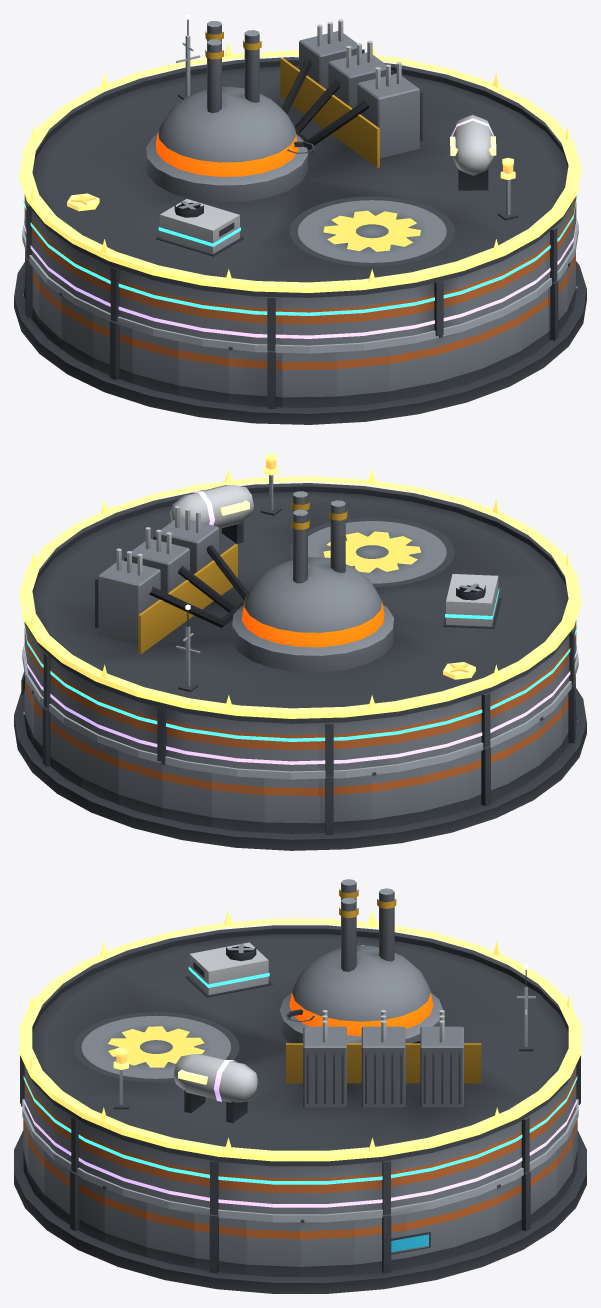
File: titanium_smelter_s.glb
The picture shows the model from 3 angles, top to bottom: view 1: azimuth 30°, elevation 25°; view 2: azimuth 150°, elevation 25°; view 3: azimuth 270°, elevation 25°; orthographic projection.
Visible parts, largest first — view 1: Roof, Base, L3, Wall_21, Wall_20, Wall_22, Wall_19, L4, Wall_23, Wall_18, Wall_24, Upper_20 (+36 smaller); view 2: Roof, Base, Wall_10, Wall_11, Wall_09, L4, Wall_12, L3, Wall_08, Wall_13, Wall_07, Upper_11 (+36 smaller); view 3: Roof, Base, L4, L3, Wall_00, Wall_31, Wall_30, Wall_01, Wall_29, Wall_28, Wall_03, Upper_00 (+34 smaller).
Boxes of the visible parts, x1,y1,x2,y2 form: Roof: [29, 19, 574, 297]; Base: [14, 261, 586, 424]; L3: [155, 141, 314, 256]; Wall_21: [282, 352, 336, 407]; Wall_20: [228, 346, 282, 408]; Wall_22: [336, 347, 389, 406]; Wall_19: [178, 341, 228, 403]; L4: [450, 114, 496, 190]; Wall_23: [389, 338, 438, 401]; Wall_18: [132, 329, 178, 395]; Wall_24: [438, 324, 482, 391]; Upper_20: [229, 293, 282, 350]; Roof: [26, 483, 571, 723]; Base: [14, 688, 586, 850]; Wall_10: [264, 778, 318, 833]; Wall_11: [318, 775, 371, 834]; Wall_09: [211, 773, 264, 832]; L4: [170, 485, 253, 543]; Wall_12: [372, 767, 422, 829]; L3: [442, 574, 501, 628]; Wall_08: [161, 762, 211, 827]; Wall_13: [422, 755, 468, 821]; Wall_07: [118, 750, 162, 817]; Upper_11: [318, 719, 371, 776]; Roof: [31, 879, 569, 1166]; Base: [14, 1130, 586, 1293]; L4: [173, 1054, 258, 1123]; L3: [185, 942, 314, 1022]; Wall_00: [300, 1219, 354, 1277]; Wall_31: [246, 1220, 300, 1276]; Wall_30: [194, 1213, 246, 1274]; Wall_01: [354, 1213, 406, 1274]; Wall_29: [146, 1203, 194, 1267]; Wall_28: [103, 1185, 146, 1257]; Wall_03: [454, 1188, 496, 1257]; Upper_00: [300, 1164, 354, 1214].
Size of the model in its own units: 11.74 by 5.88 by 11.74.
